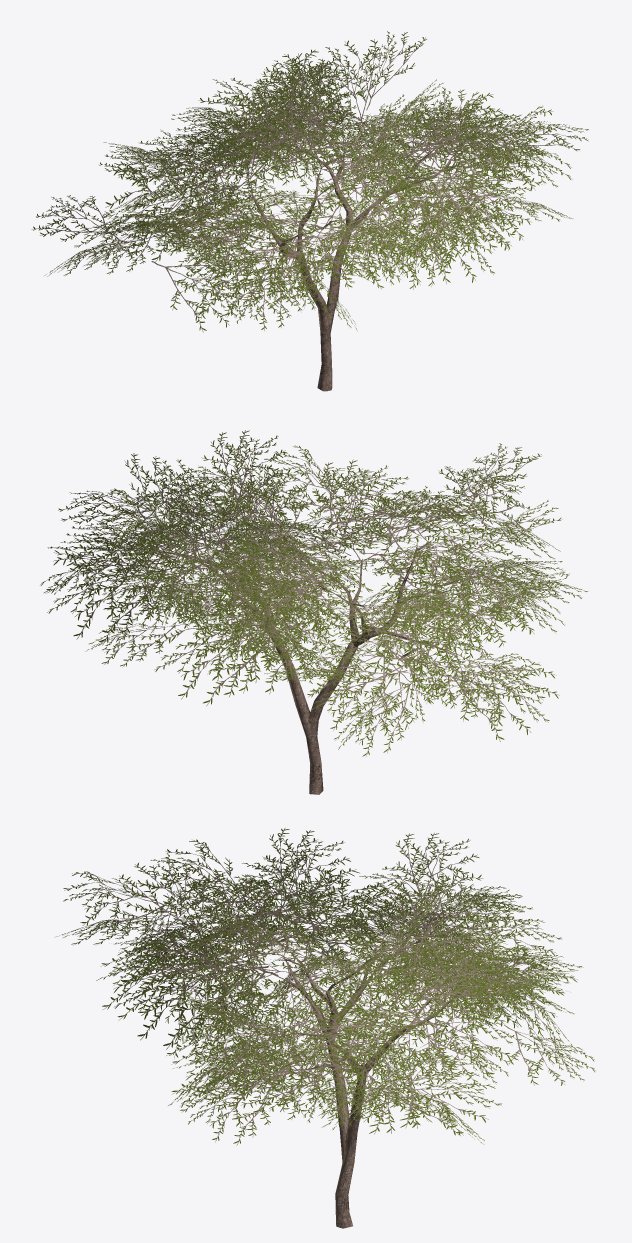
File: koa_far.glb
3 renders of one model, top to bottom at view 1: azimuth 30°, elevation 25°; view 2: azimuth 150°, elevation 25°; view 3: azimuth 270°, elevation 25°, orthographic. The views are drawn at different scales.
Visible parts, largest first — view 1: acacia branch_1, bark05_0; view 2: acacia branch_1, bark05_0; view 3: acacia branch_1, bark05_0.
Part boxes in pixels (x1,y1,x2,y2): acacia branch_1: (31, 31, 588, 332); bark05_0: (156, 122, 466, 391); acacia branch_1: (40, 430, 588, 756); bark05_0: (151, 513, 480, 794); acacia branch_1: (56, 828, 595, 1145); bark05_0: (153, 922, 480, 1228).
Size of the model in its own units: 14.19 by 7.29 by 11.48.
2 materials, 2 textured.
